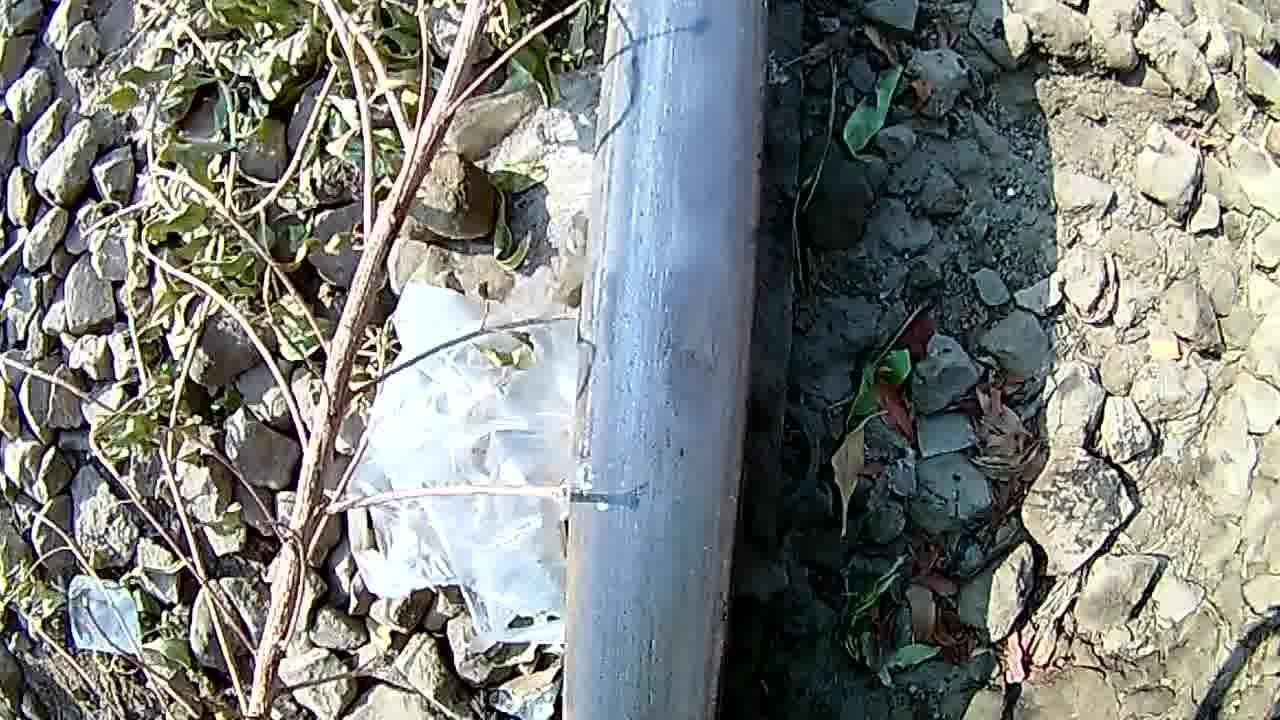crack: (586, 112, 766, 635)
